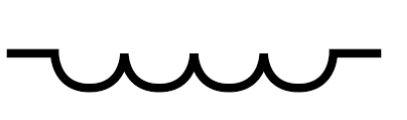inductor: (32, 41, 351, 109)
